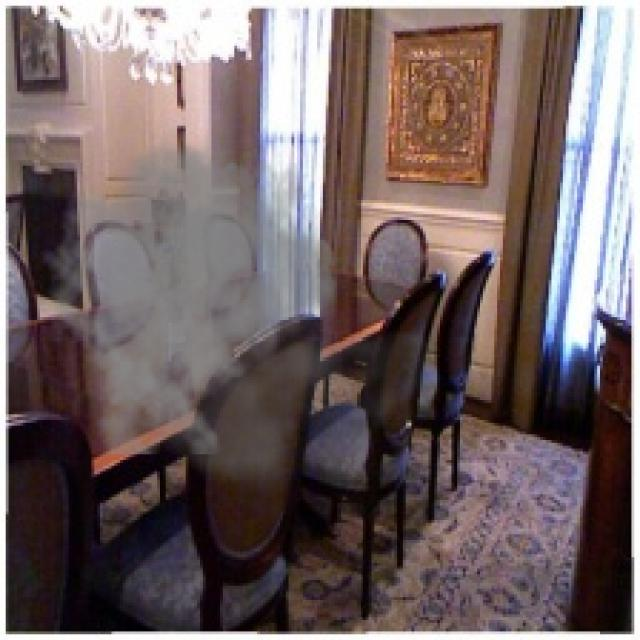smoke: (40, 117, 443, 500)
